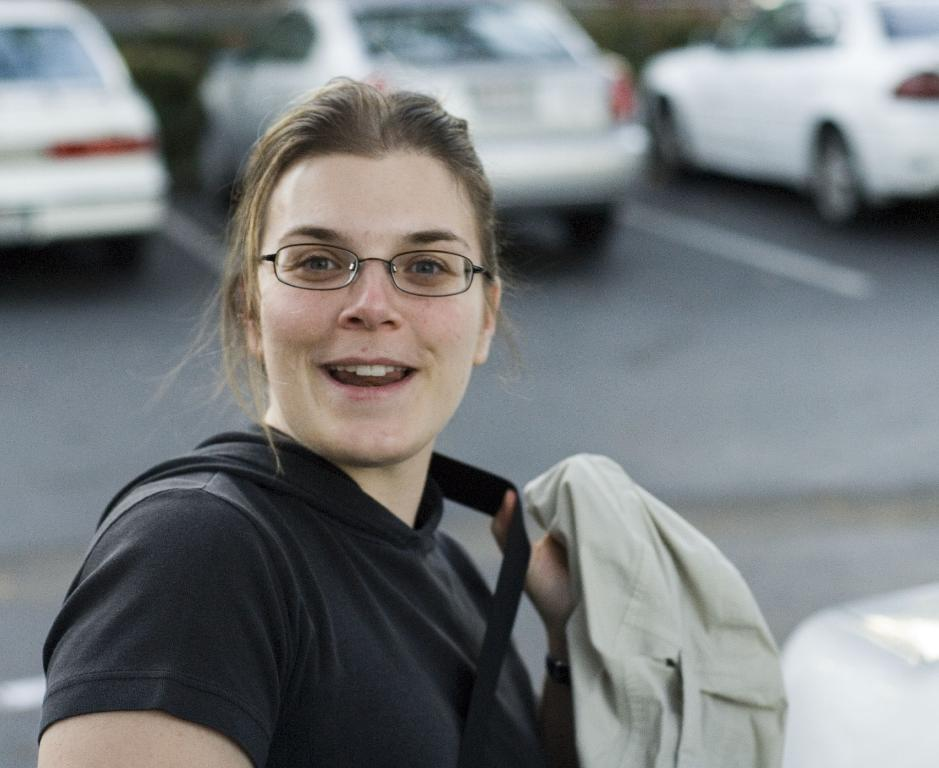Car: (197, 0, 675, 250), (635, 27, 921, 215), (0, 9, 183, 274)
